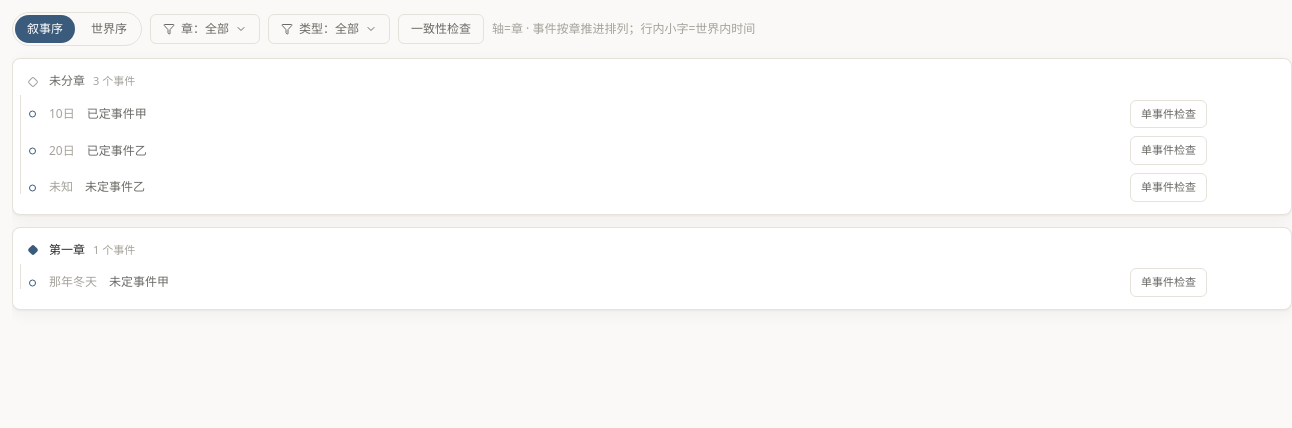
#1581 零未知 + 待确认区 › 待确认区渲染于刻度带下方，条数 = 正式表未定事件
Click the button with test id "tl-view-world" at (109, 29), box left=79, top=15, right=139, bottom=43
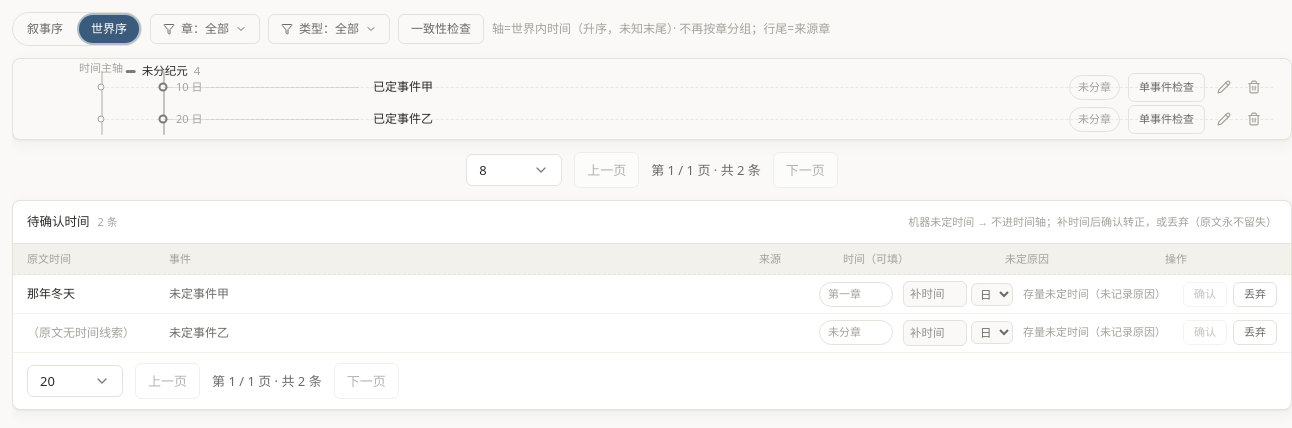
Check: the text with test id "tl-pend-raw-ev-e3" reads "那年冬天", box left=27, top=285, right=75, bottom=302
Check: the element with test id "tl-pend" is shown, box left=12, top=200, right=1291, bottom=410
Check: the text with test id "tl-pend-count" shows "2", box left=98, top=214, right=118, bottom=229
